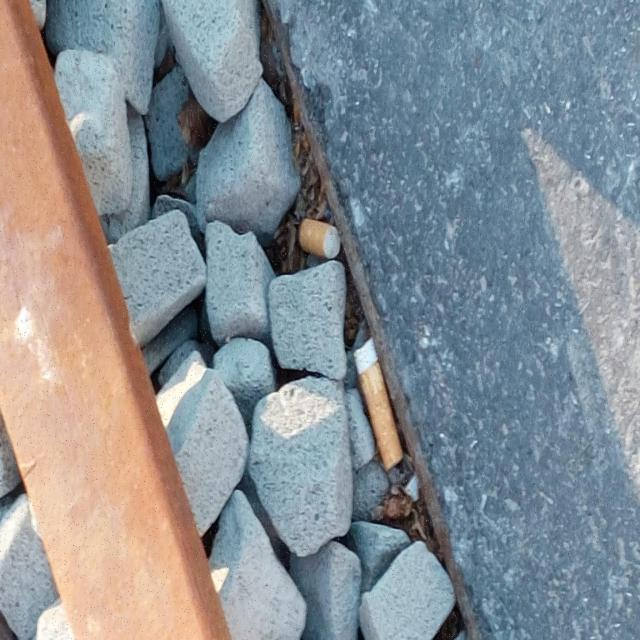other waste: (352, 335, 404, 473), (298, 218, 341, 260)
